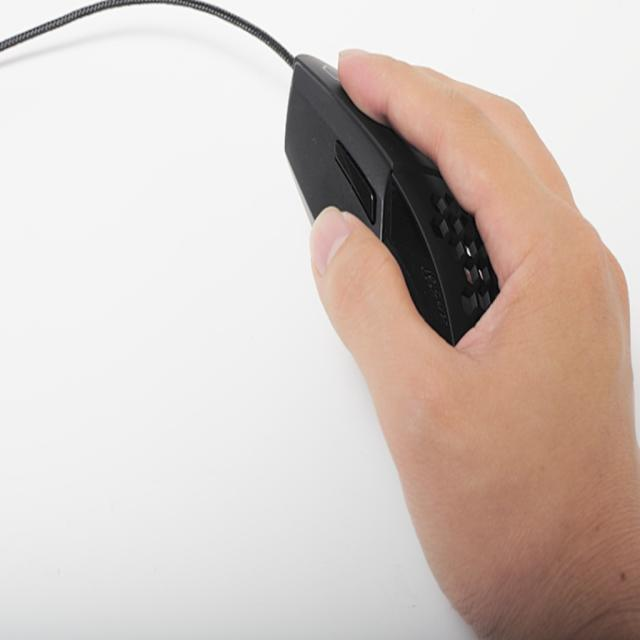Computer-mouse: (284, 52, 498, 348)
